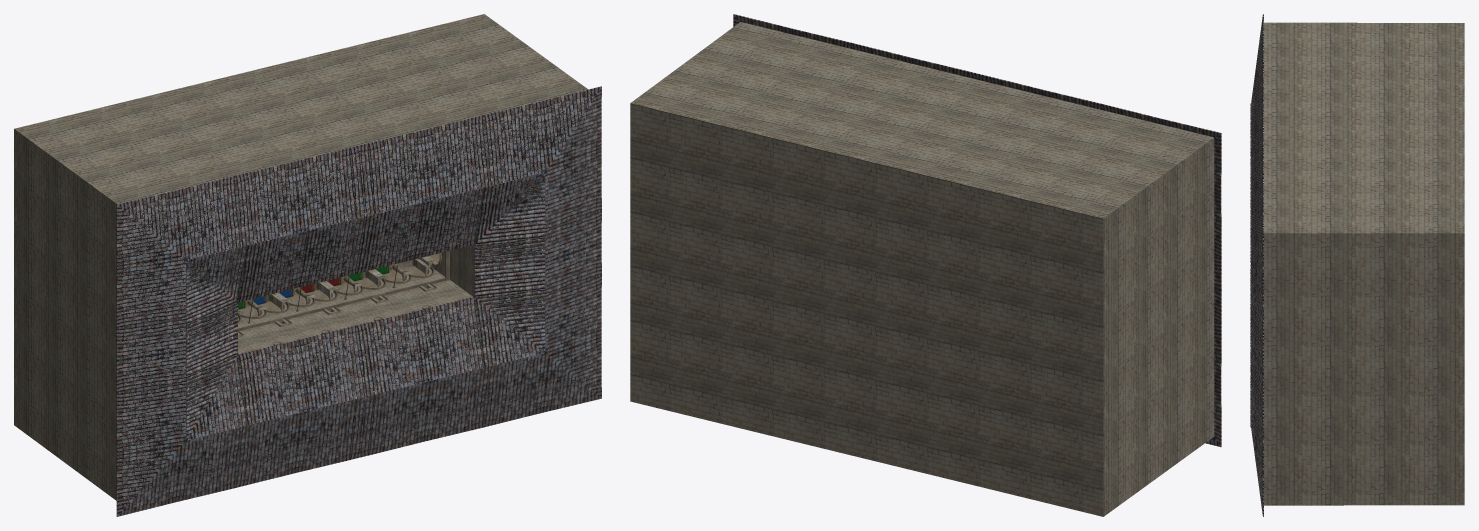
Rendered from sponza.gltf.
The picture shows the model from 3 angles, left to right: view 1: azimuth 30°, elevation 25°; view 2: azimuth 150°, elevation 25°; view 3: azimuth 270°, elevation 25°; orthographic projection. The views are drawn at different scales.
Visible parts, largest first — view 1: Mesh_0, Mesh_0.005, Mesh_0.006, Mesh_0.009, Mesh_0.010; view 2: Mesh_0.005, Mesh_0; view 3: Mesh_0.005, Mesh_0.
Part boxes in pixels (x1=…): Mesh_0: x1=116, y1=86, x2=601, y2=516; Mesh_0.005: x1=14, y1=14, x2=588, y2=500; Mesh_0.006: x1=238, y1=251, x2=449, y2=345; Mesh_0.009: x1=238, y1=253, x2=439, y2=316; Mesh_0.010: x1=238, y1=256, x2=438, y2=314; Mesh_0.005: x1=630, y1=22, x2=1214, y2=516; Mesh_0: x1=733, y1=14, x2=1221, y2=446; Mesh_0.005: x1=1263, y1=22, x2=1464, y2=505; Mesh_0: x1=1250, y1=14, x2=1263, y2=516.
Bounding box in the file's own units: 29.77 × 18.31 × 12.45.
Materials: 20 (20 with a texture image).
